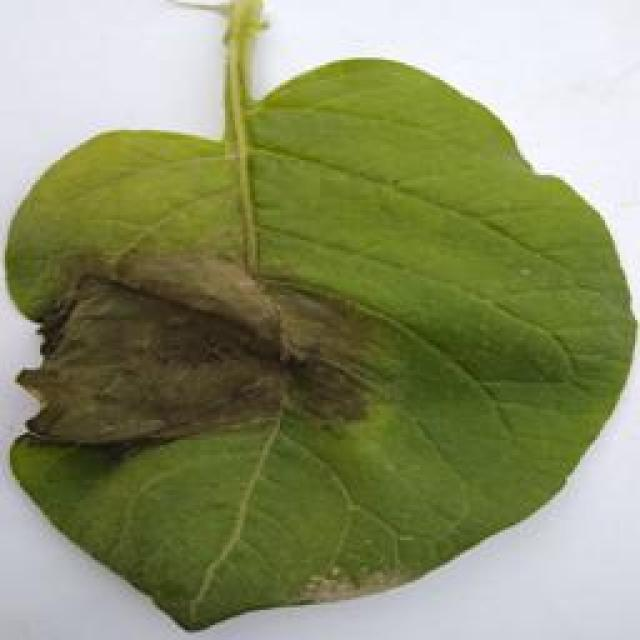Potato_Late_Blight: (5, 0, 640, 609)
